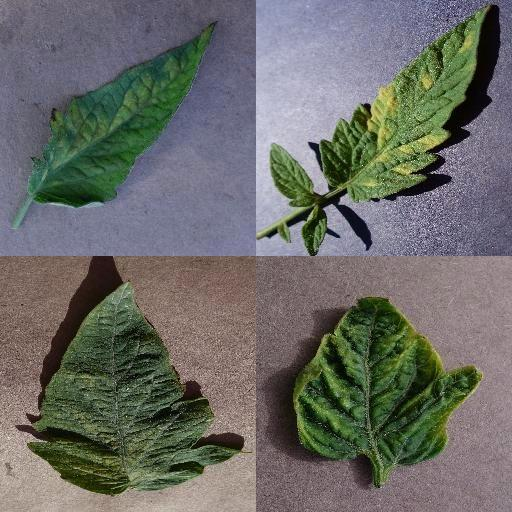Leaf Mold: (28, 20, 216, 212), (320, 3, 488, 203)
Spider Mites: (27, 279, 237, 493)
Yellow Leaf Curl Virus: (292, 294, 482, 468)
